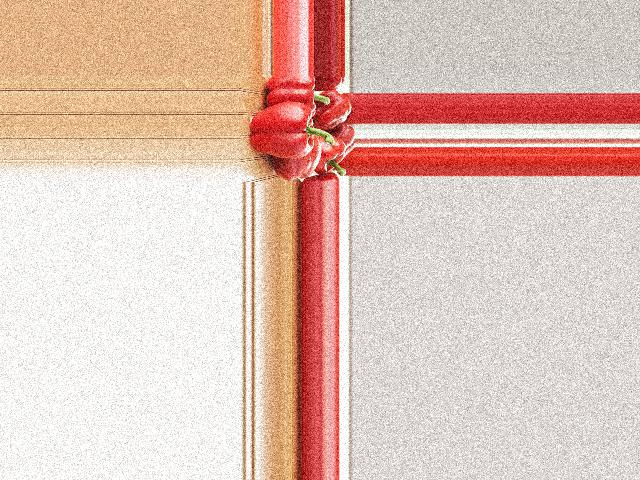bell_pepper: (312, 136, 347, 178)
